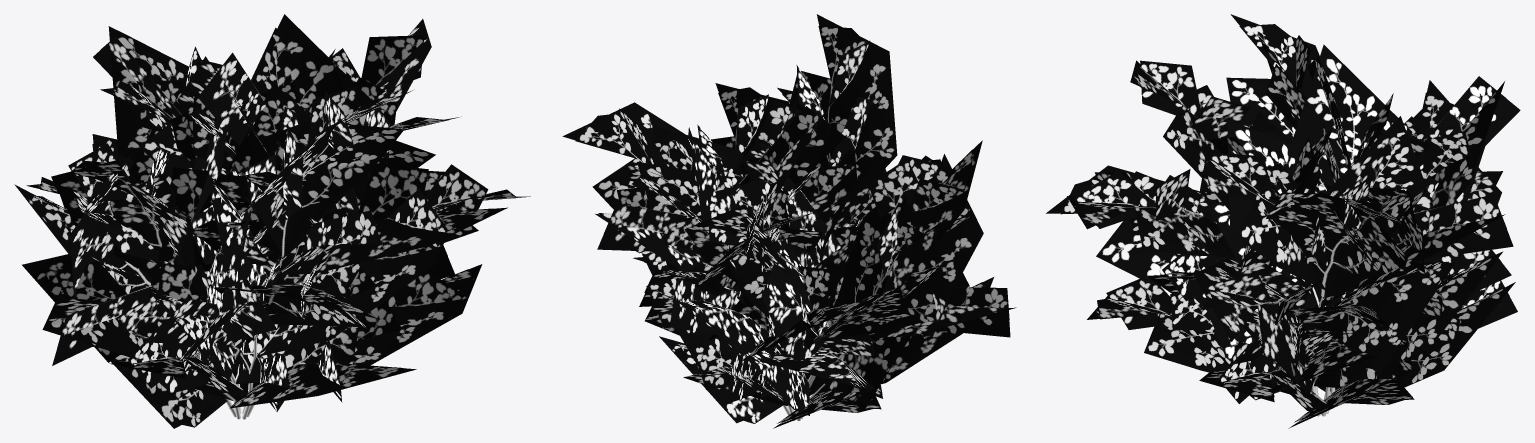
The model's file is bush_spicebush_a.gltf.
3 views of the same model, side by side, from view 1: azimuth 30°, elevation 25°; view 2: azimuth 150°, elevation 25°; view 3: azimuth 270°, elevation 25° (orthographic). The views are drawn at different scales.
Visible parts, largest first — view 1: E:\SteamLibrary\steamapps\common\sbox\addons\rust\models\rus (×2); view 2: E:\SteamLibrary\steamapps\common\sbox\addons\rust\models\rus (×2); view 3: E:\SteamLibrary\steamapps\common\sbox\addons\rust\models\rus (×2).
Part boxes in pixels (bbox=[...]): E:\SteamLibrary\steamapps\common\sbox\addons\rust\models\rus (×2): bbox=[14, 14, 530, 428]; E:\SteamLibrary\steamapps\common\sbox\addons\rust\models\rus (×2): bbox=[562, 14, 1016, 428]; E:\SteamLibrary\steamapps\common\sbox\addons\rust\models\rus (×2): bbox=[1046, 14, 1520, 428].
Bounding box in the file's own units: 5.17 × 3.99 × 4.68.
